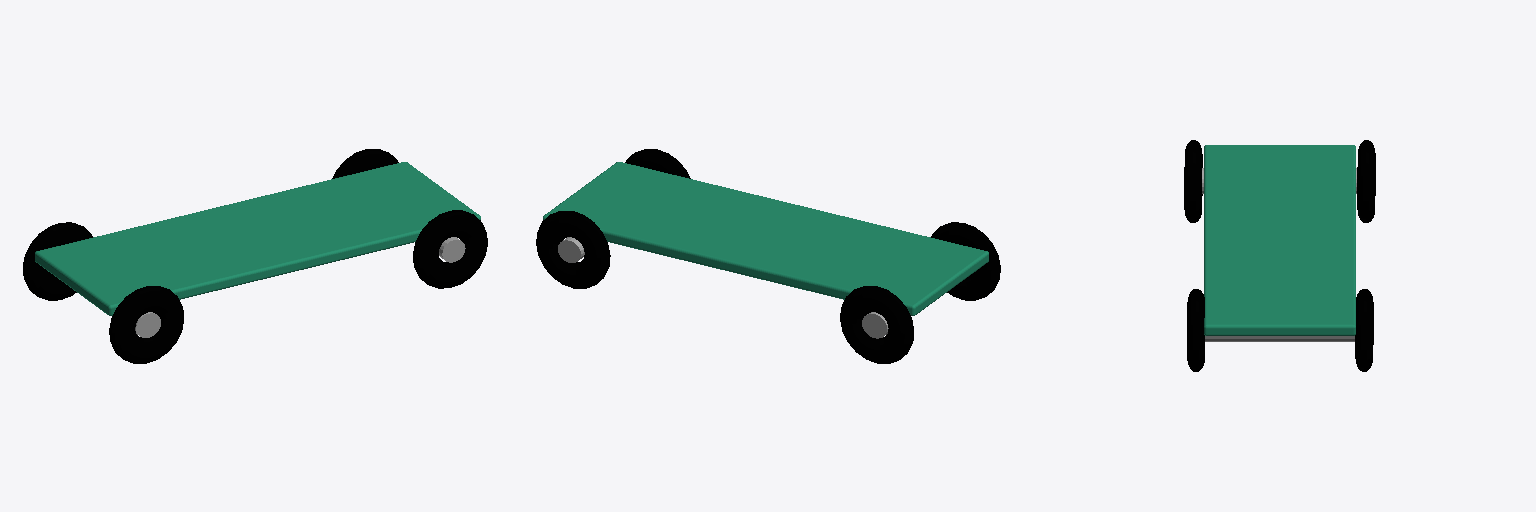
Rendered from Texture_Longboard.obj.
The picture shows the model from 3 angles: view 1: azimuth 30°, elevation 25°; view 2: azimuth 150°, elevation 25°; view 3: azimuth 270°, elevation 25°; orthographic projection.
Visible parts, largest first — view 1: Electric_Longboard_mesh; view 2: Electric_Longboard_mesh; view 3: Electric_Longboard_mesh.
Boxes of the visible parts, <box> form: Electric_Longboard_mesh: <box>23,149,487,363</box>; Electric_Longboard_mesh: <box>536,149,1000,363</box>; Electric_Longboard_mesh: <box>1184,140,1375,371</box>.
Size of the model in its own units: 16.13 by 3.1 by 7.06.